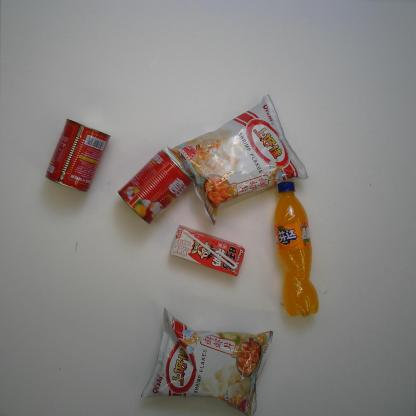Canned Food: (116, 141, 195, 228), (45, 117, 111, 194)
Drink: (273, 181, 323, 318)
Milk: (168, 223, 247, 276)
Puffed Food: (164, 92, 308, 231), (139, 307, 274, 416)
